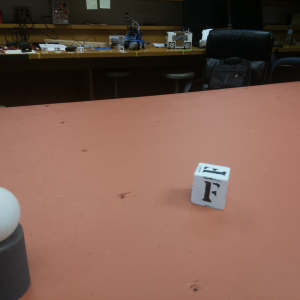blockF: (190, 159, 232, 211)
obstacle: (1, 187, 30, 300)
